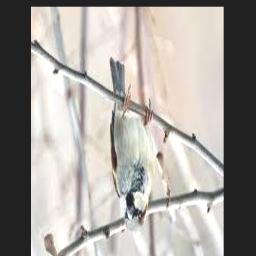Sparrow: (109, 58, 153, 232)
